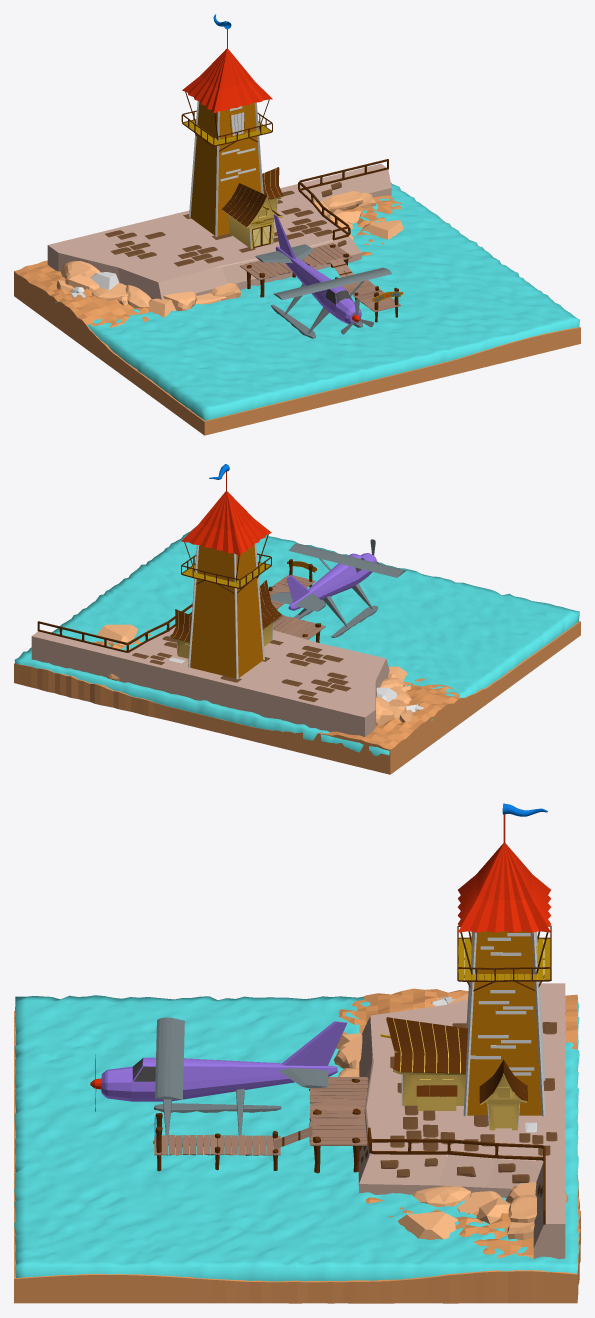
The model's file is Lighthouse.glb.
3 renders of one model, top to bottom at view 1: azimuth 30°, elevation 25°; view 2: azimuth 150°, elevation 25°; view 3: azimuth 270°, elevation 25°, orthographic. The views are drawn at different scales.
Parts seen in each view (by area): view 1: Plane.002, House-pad, Plane.029, Cube.001, Sea_Plane, Cube.019, Plane, Cube.014, Fence, Cube.002, Cube.015, Plane.031 (+3 smaller); view 2: Plane.002, House-pad, Plane.029, Cube.001, Sea_Plane, Cube.019, Fence, Cube.015, Plane, Cube.016, Cube_Cube.003, Cube.014 (+3 smaller); view 3: Plane.002, Plane.029, House-pad, Sea_Plane, Cube.001, Cube.019, Cube.014, Plane, Plane.031, Cube.015, Fence, Cube.002 (+8 smaller).
Boxes of the visible parts, x1,y1,x2,y2 form: Plane.002: (55, 183, 579, 420); House-pad: (47, 163, 391, 299); Plane.029: (14, 195, 580, 435); Cube.001: (190, 101, 261, 235); Sea_Plane: (255, 214, 391, 338); Cube.019: (182, 29, 272, 113); Plane: (240, 243, 352, 280); Cube.014: (221, 183, 282, 227); Fence: (298, 159, 388, 240); Cube.002: (222, 185, 282, 248); Cube.015: (189, 101, 263, 236); Plane.031: (342, 280, 401, 312); Plane.002: (14, 527, 579, 756); House-pad: (31, 615, 389, 736); Plane.029: (14, 621, 580, 774); Cube.001: (190, 544, 263, 678); Sea_Plane: (270, 543, 406, 637); Cube.019: (181, 471, 271, 555); Fence: (37, 603, 192, 652); Cube.015: (188, 543, 264, 679); Plane: (273, 615, 325, 639); Cube.016: (181, 553, 271, 593); Cube_Cube.003: (97, 624, 137, 645); Cube.014: (259, 580, 281, 628); Plane.002: (14, 995, 579, 1281); Plane.029: (14, 988, 580, 1303); House-pad: (358, 983, 565, 1259); Sea_Plane: (101, 1017, 347, 1147); Cube.001: (467, 931, 541, 1115); Cube.019: (458, 814, 550, 932); Cube.014: (386, 1017, 467, 1073); Plane: (308, 1077, 368, 1145); Plane.031: (154, 1134, 280, 1155); Cube.015: (463, 932, 545, 1116); Fence: (368, 1127, 545, 1224); Cube.002: (386, 1018, 465, 1105).
Size of the model in its own units: 11.84 by 7.55 by 10.43.
